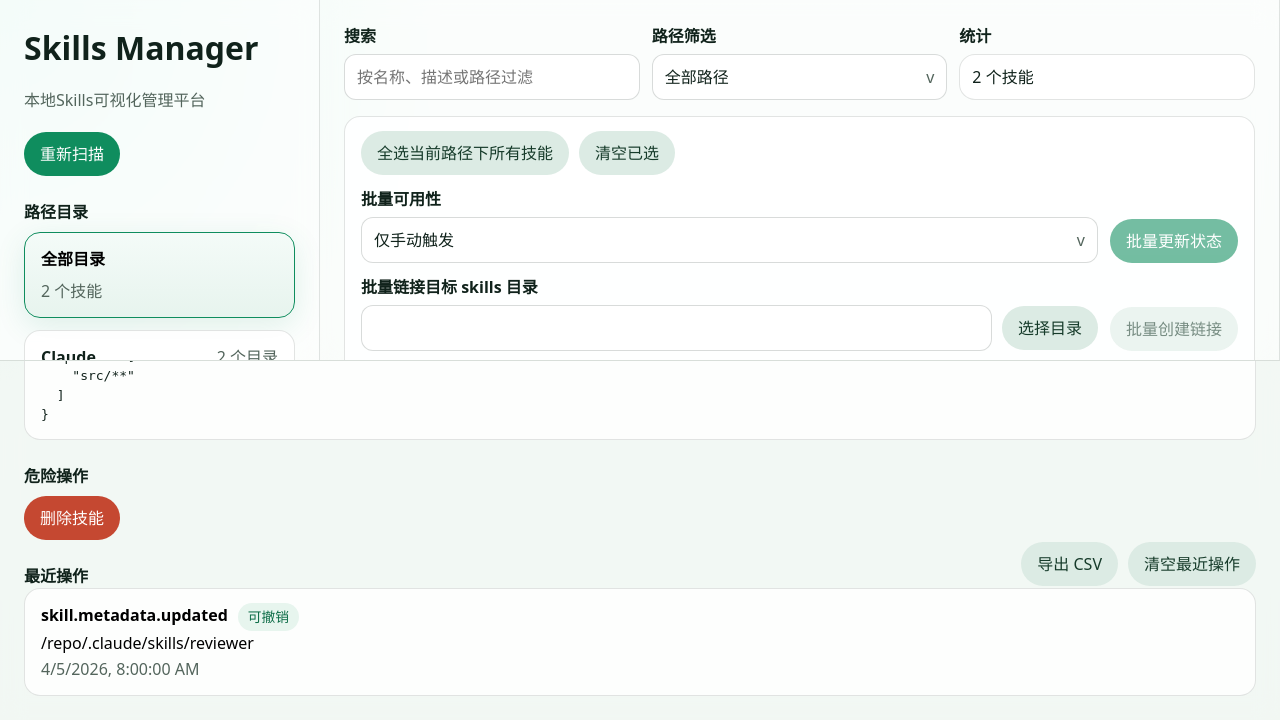
Test: App › clears recent actions with one click
(page scrolled)
Check: the heading "Skills Manager" is shown, box [24,24,295,72]
Check: the text "skill.metadata.updated" is shown, box [41,603,228,631]
Click the button "清空最近操作" at (1192, 564), box [1128,542,1256,586]
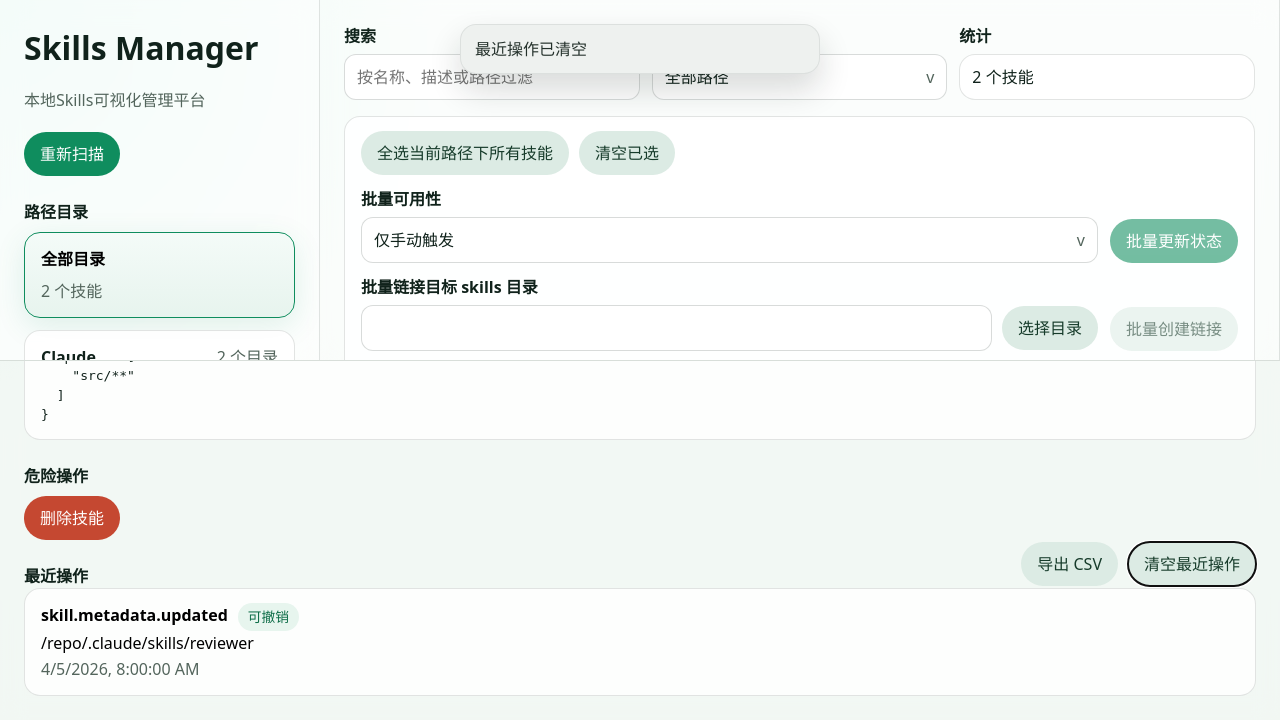
Check: the text "最近操作已清空" is shown, box [460,24,820,74]
